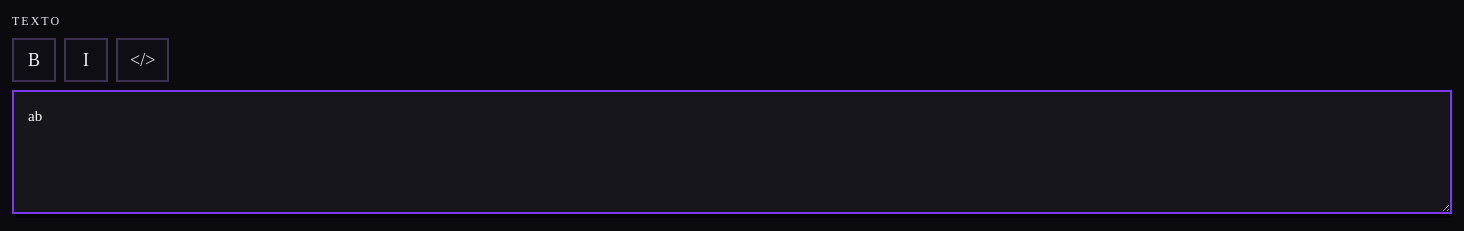
Scenario: AreaDeTexto: barra de Markdown › sem seleção insere o par de marcas no cursor
Click the button named "Negrito".
click(34, 60)  # box [12,38,56,82]
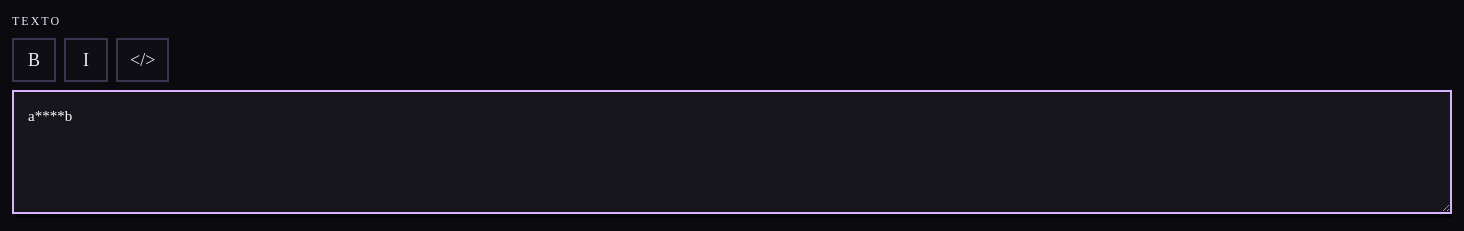
Now the text box labelled "TEXTO" holds "a****b", box [12,90,1452,214]
